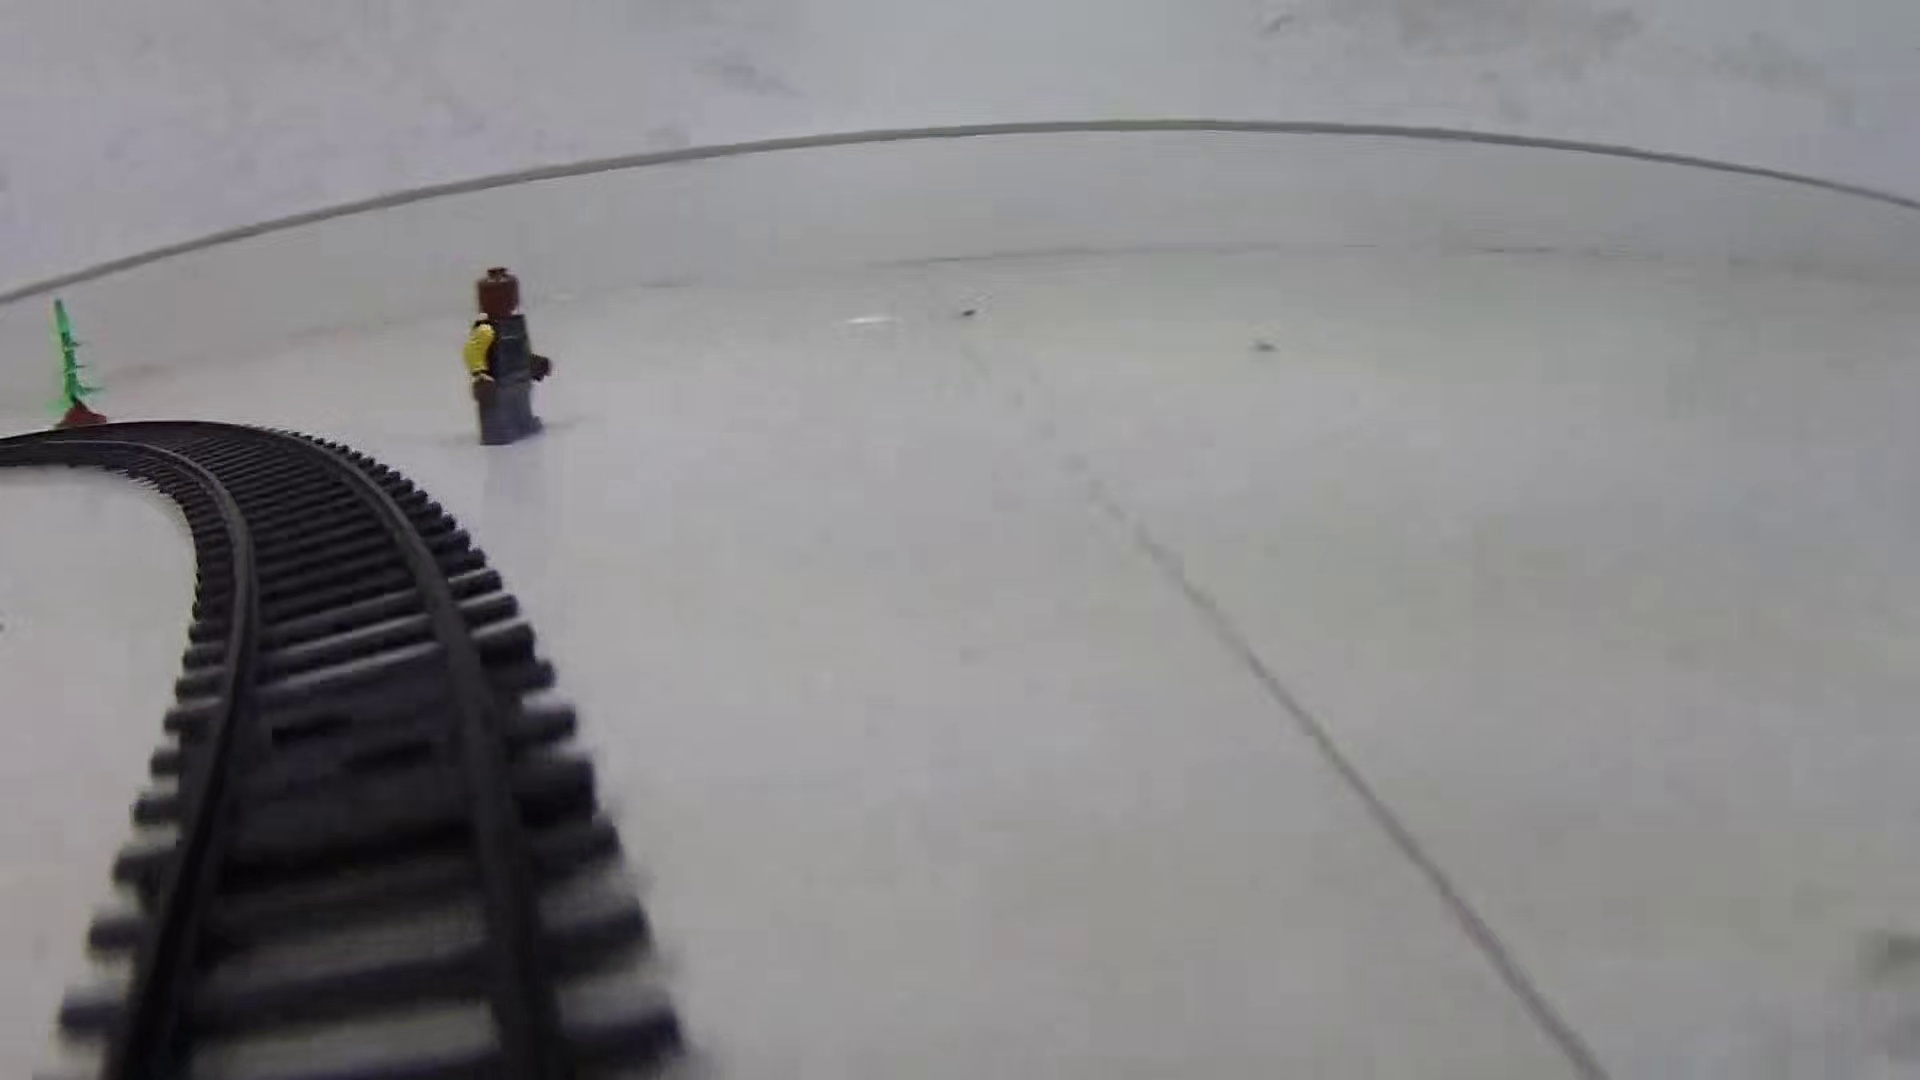people: (465, 270, 553, 448)
tree: (43, 296, 109, 431)
